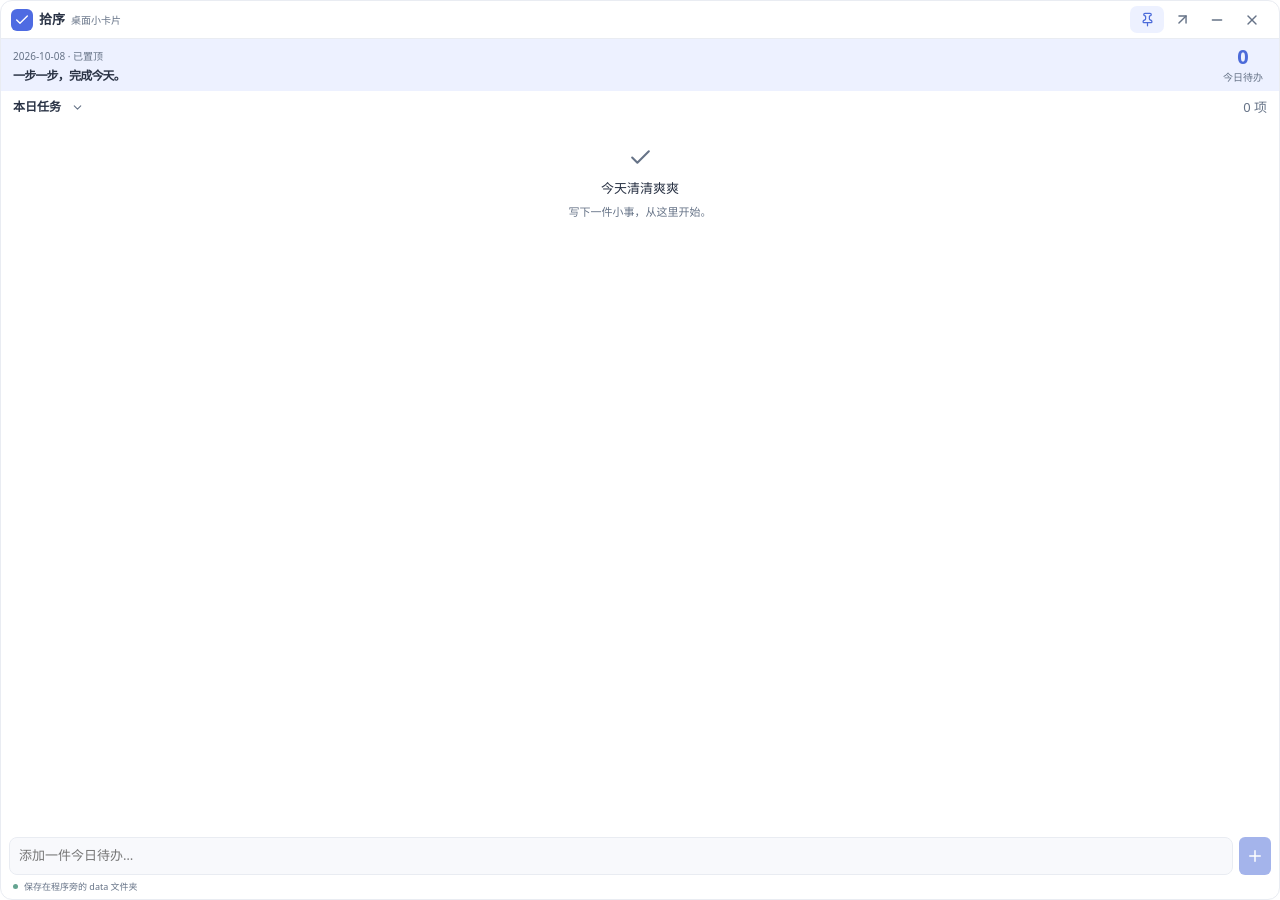
it: 最小化失败显示错误并允许重试
Expected: the text "今天清清爽爽" is shown, [601,178,679,199]
Click the button named "最小化到任务栏" at (1217, 20), box [1200,6,1234,33]
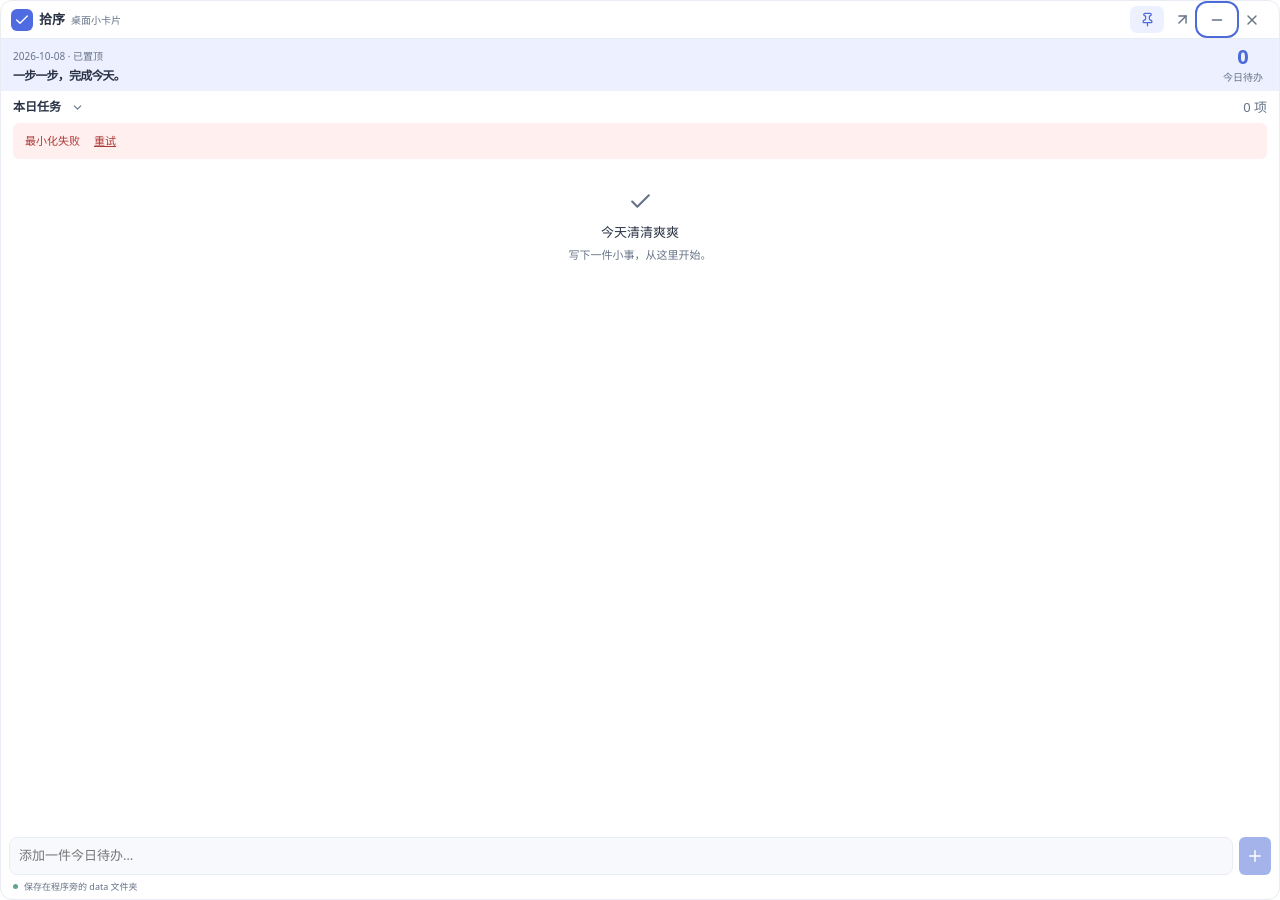
Result: the message shows "最小化失败" at [25,133,80,148]
Click the button named "最小化到任务栏" at (1217, 20), box [1200,6,1234,33]
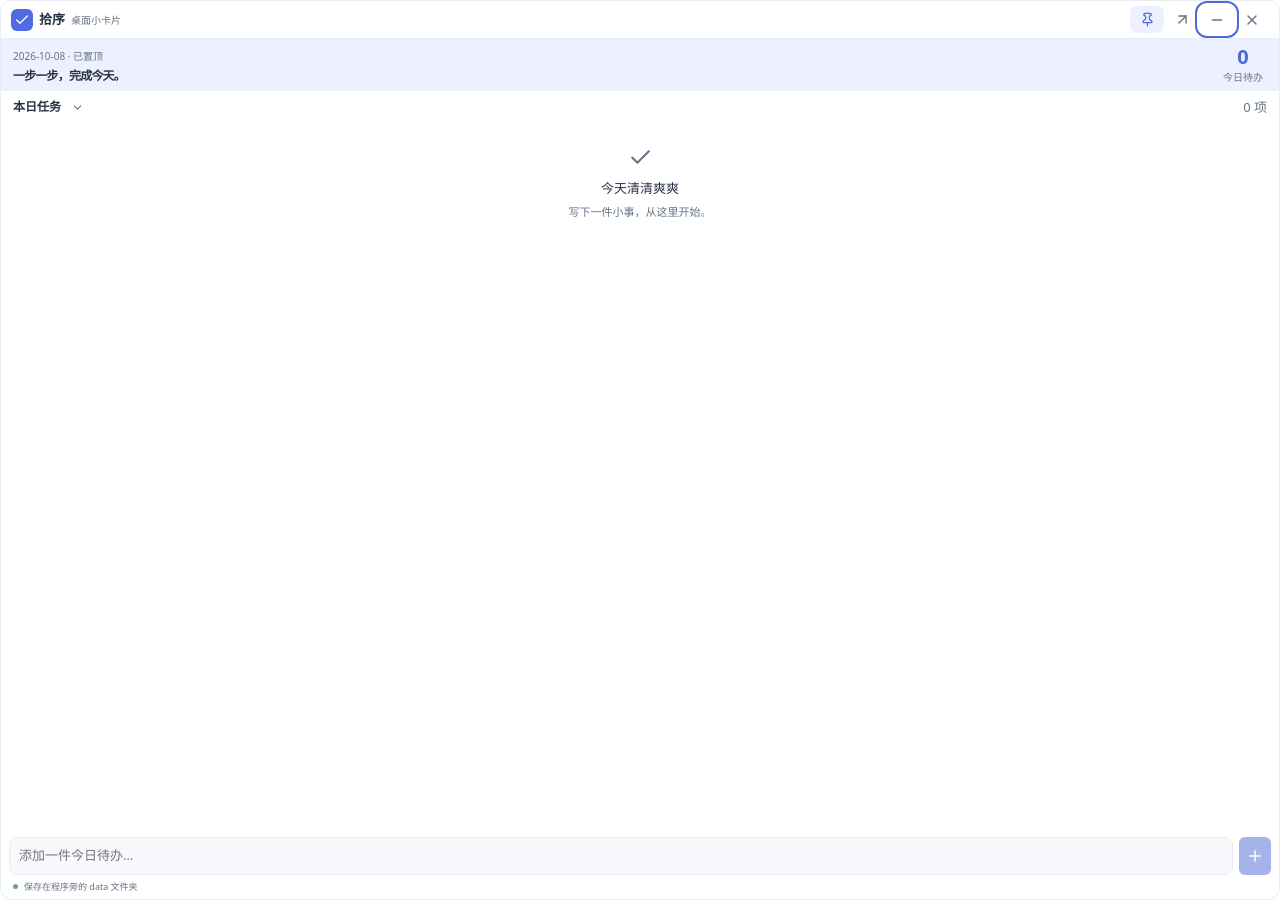
Result: the message "最小化失败 重试" is gone
